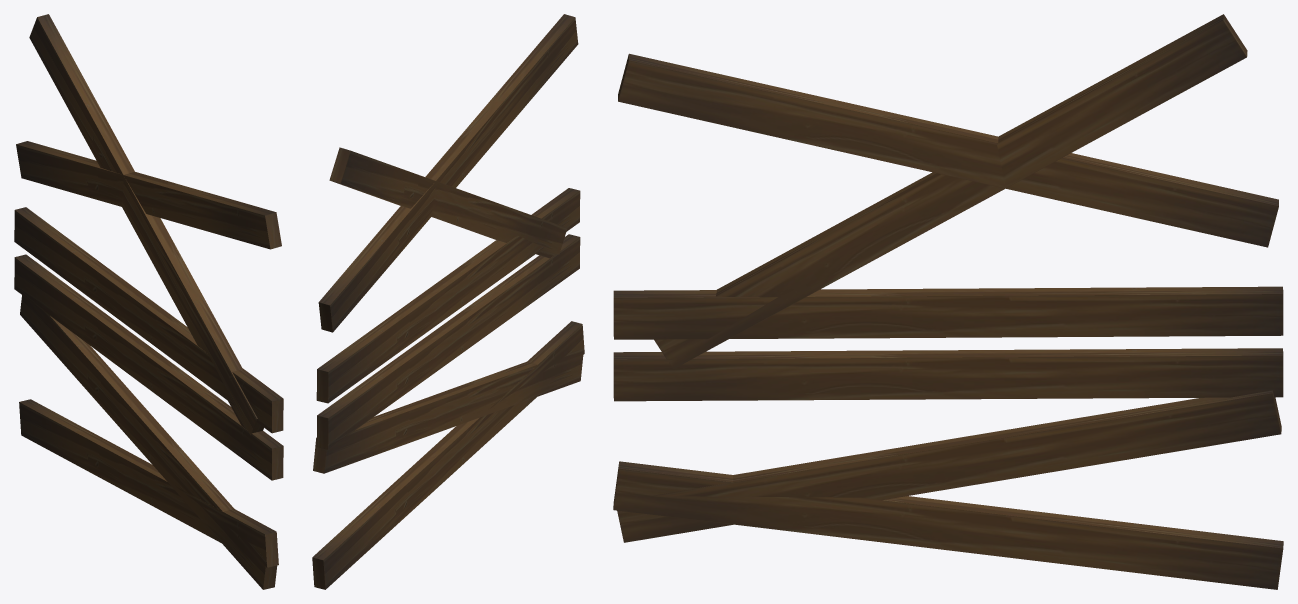
File: tower2.fbx
3 renders of one model, left to right at view 1: azimuth 30°, elevation 25°; view 2: azimuth 150°, elevation 25°; view 3: azimuth 270°, elevation 25°, orthographic. The views are drawn at different scales.
Parts seen in each view (by area): view 1: wood_01.007, wood_01.006, wood_01.004, wood_01.005, wood_01.003, wood_01.008; view 2: wood_01.003, wood_01.006, wood_01.004, wood_01.008, wood_01.005, wood_01.007; view 3: wood_01.006, wood_01.004, wood_01.003, wood_01.008, wood_01.007, wood_01.005.
Boxes of the visible parts, x1,y1,x2,y2 form: wood_01.007: (29, 14, 263, 435); wood_01.006: (14, 254, 283, 480); wood_01.004: (14, 207, 283, 433); wood_01.005: (20, 295, 277, 589); wood_01.003: (16, 141, 281, 249); wood_01.008: (19, 399, 278, 567); wood_01.003: (318, 14, 578, 332); wood_01.006: (316, 234, 580, 449); wood_01.004: (316, 188, 580, 403); wood_01.008: (312, 321, 584, 589); wood_01.005: (313, 348, 583, 473); wood_01.007: (329, 147, 567, 258); wood_01.006: (613, 348, 1283, 401); wood_01.004: (613, 286, 1283, 339); wood_01.003: (618, 53, 1278, 247); wood_01.008: (613, 461, 1283, 589); wood_01.007: (654, 14, 1247, 369); wood_01.005: (617, 390, 1281, 542).
Bounding box in the file's own units: 17.96 × 355 × 381.
1 material, 1 textured.
